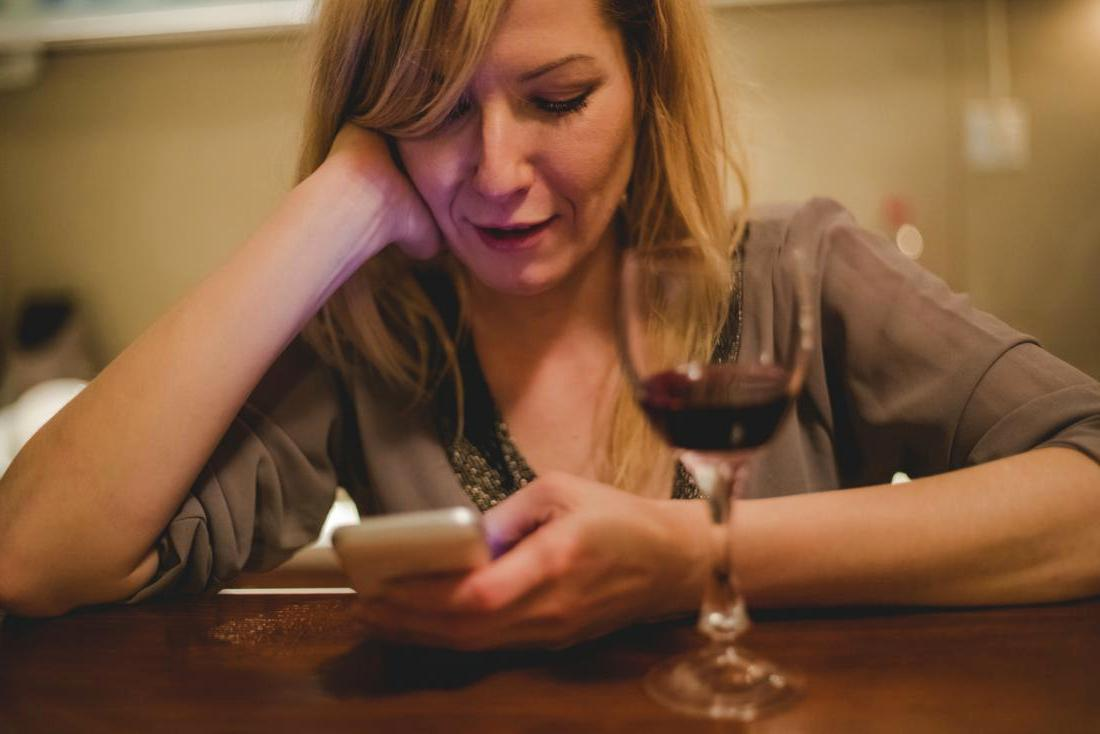Drunk: (407, 14, 637, 285)
